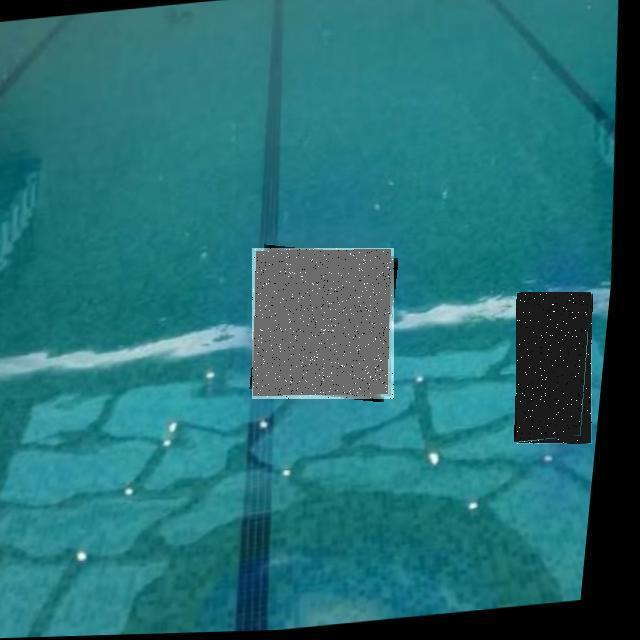swimming: (252, 248, 394, 399), (516, 292, 592, 444)
